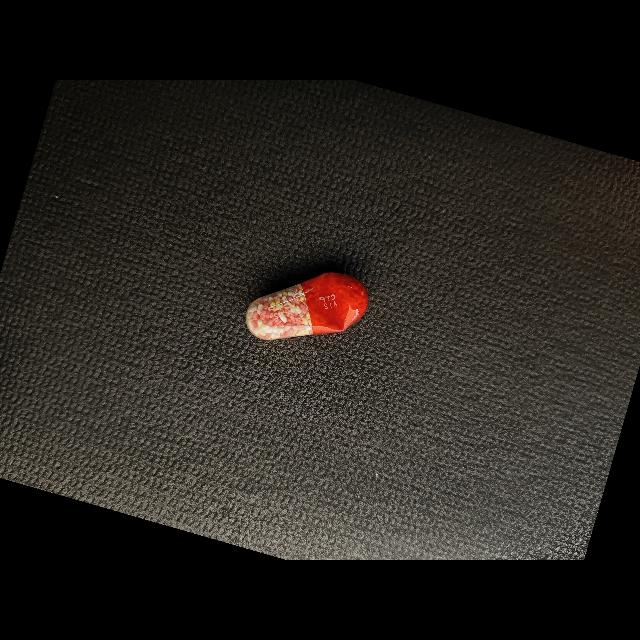Defective Capsule: (246, 272, 368, 340)
